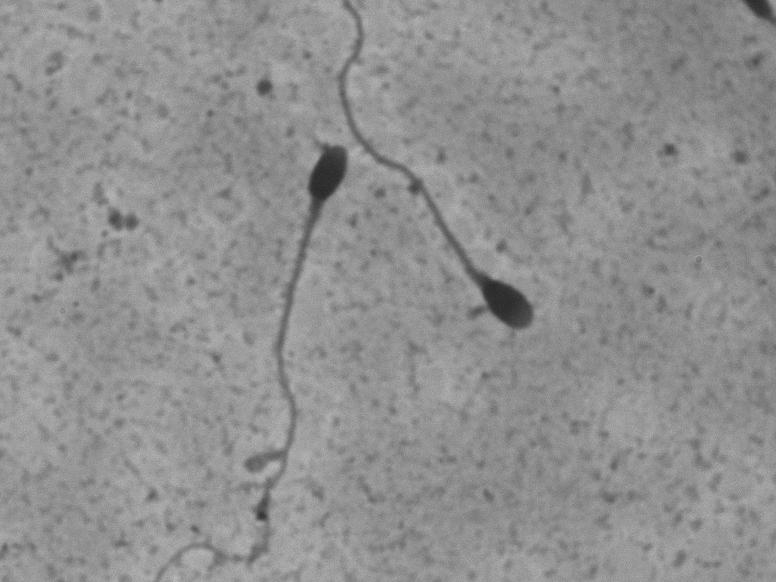Normal: (151, 128, 355, 578), (323, 3, 542, 349)
